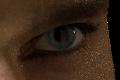eye: (50, 26, 76, 49)
